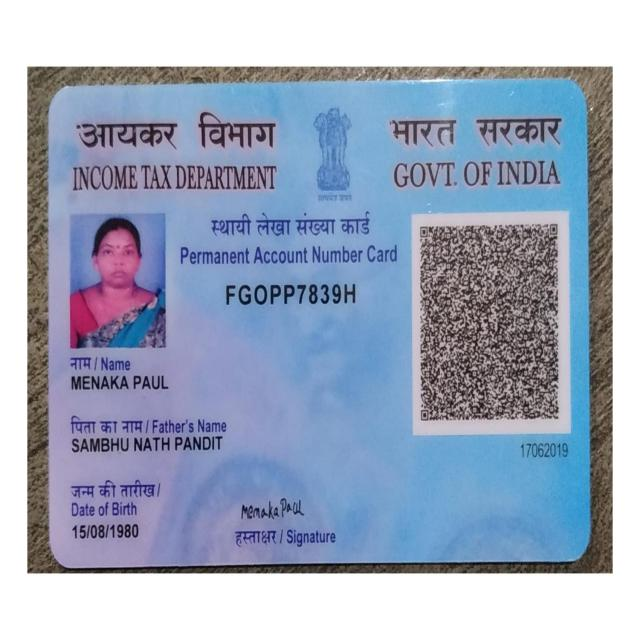pan_card: (60, 90, 586, 553)
